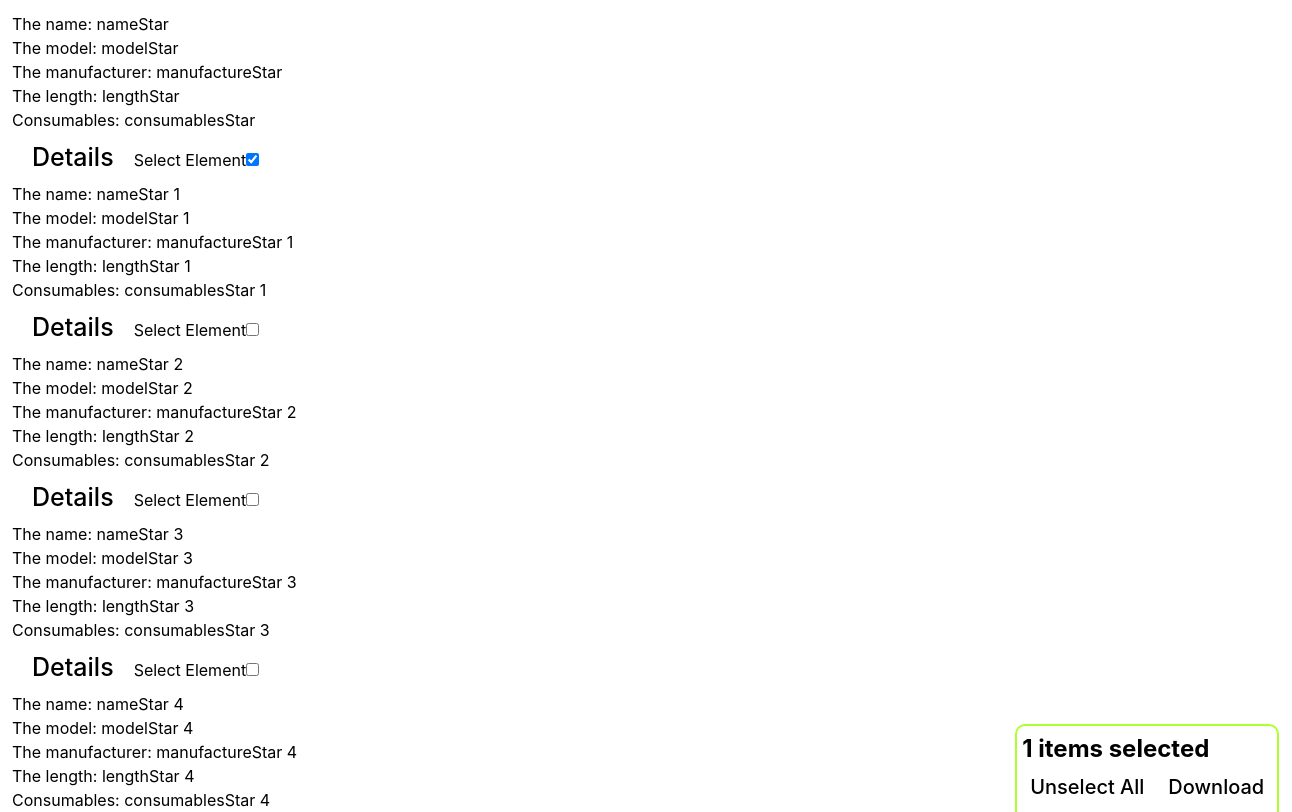
Scenario: Flyout › should remove Flyout when click button Unselect All
expect the 1st list item with test id "card" is shown: met, box [12,14,282,182]
Click the 1st checkbox labelled "Select Element" at (253, 160), box [246,153,259,166]
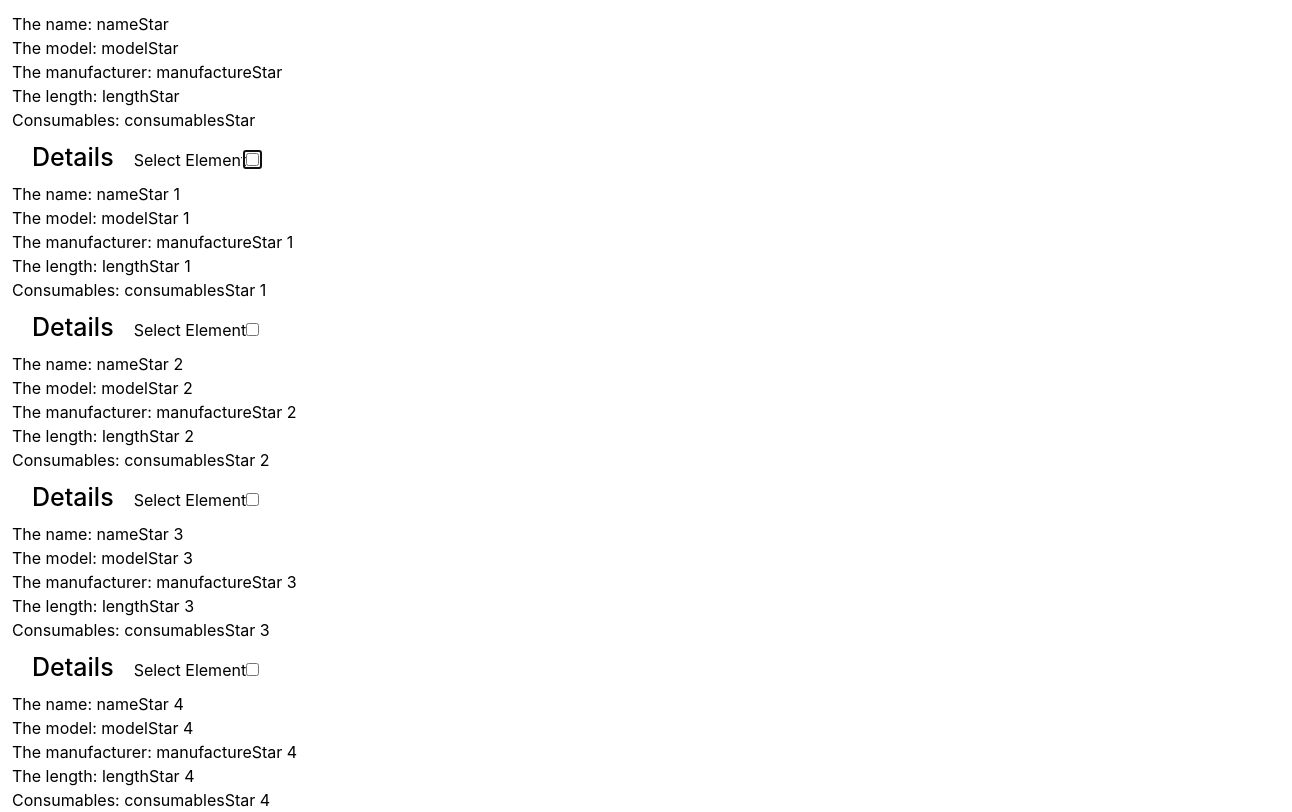
Click the checkbox labelled "Select Element" below "nameStar 1" at (253, 330), box [246,323,259,336]
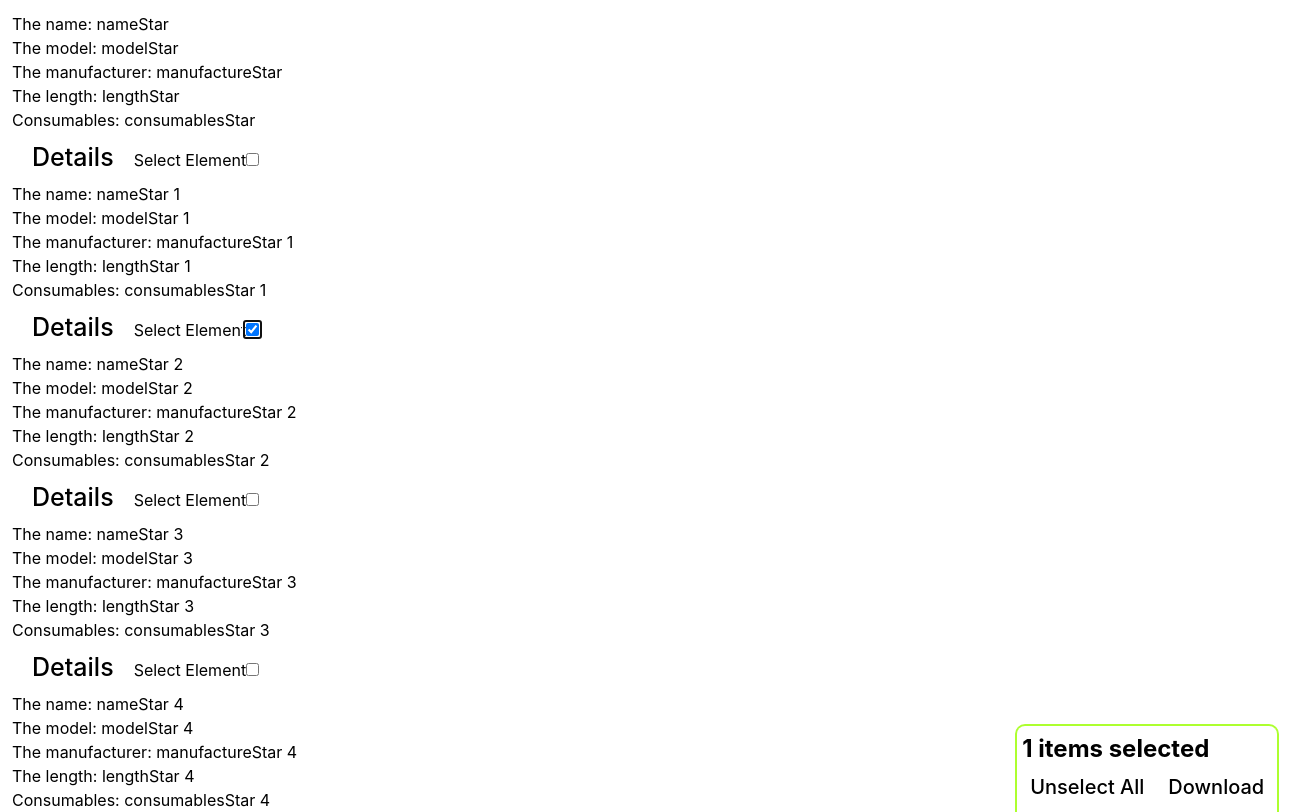
Click the checkbox labelled "Select Element" below "nameStar 2" at (253, 500), box [246,493,259,506]
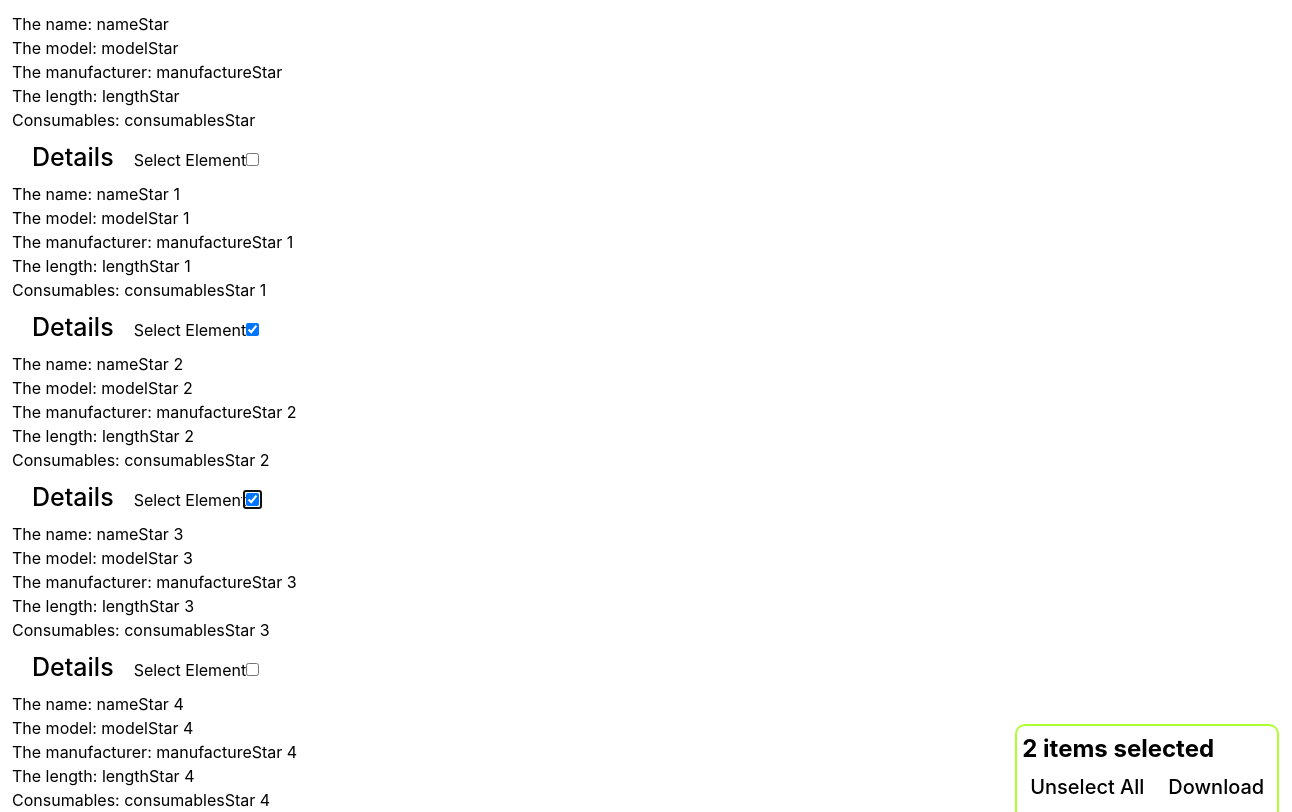
expect the 1st checkbox labelled "Select Element" is not checked: met, box [246,153,259,166]
expect the element with test id "flyout" is shown: met, box [1015,724,1279,811]
Click the button "Unselect All" at (1087, 787), box [1022,767,1152,807]
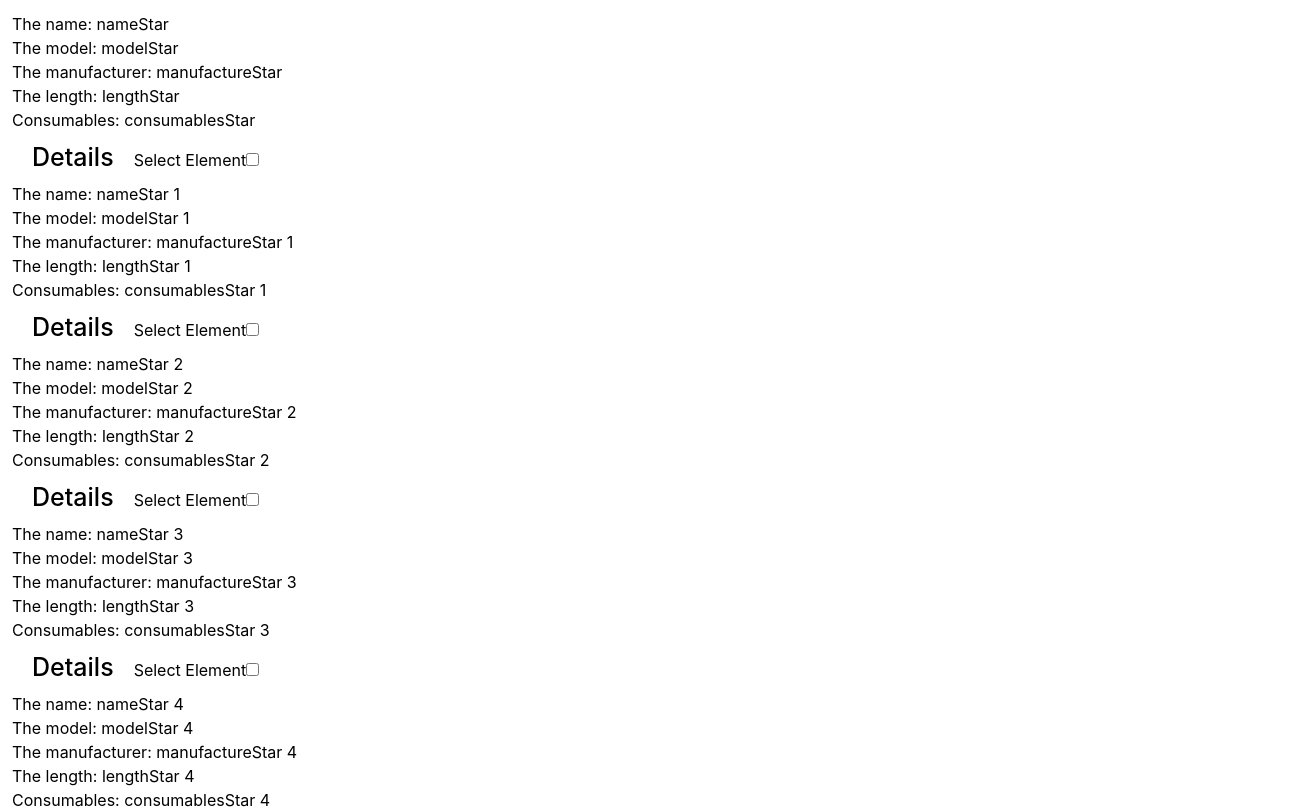
expect the element with test id "flyout" is gone: met
